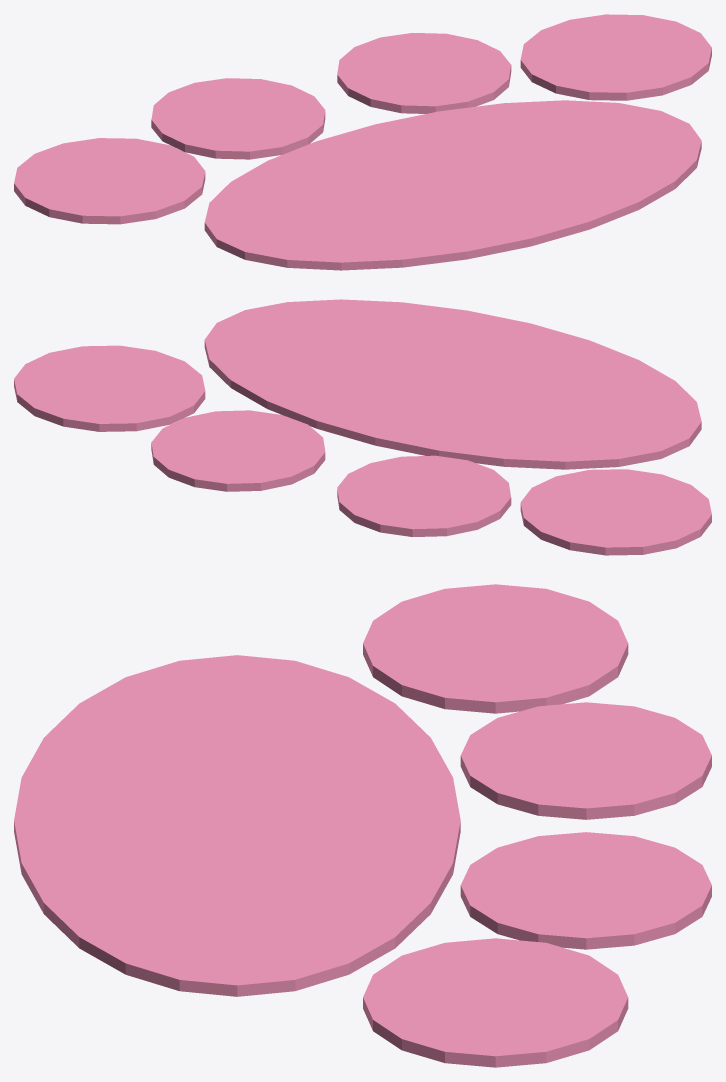
Rendered from rug_paw.glb.
3 views of the same model, one above another, from view 1: azimuth 30°, elevation 25°; view 2: azimuth 150°, elevation 25°; view 3: azimuth 270°, elevation 25° (orthographic). The views are drawn at different scales.
Visible parts, largest first — view 1: Body; view 2: Body; view 3: Body.
Part boxes in pixels (x1,y1,x2,y2): Body: (14, 14, 711, 270); Body: (14, 299, 711, 555); Body: (14, 584, 711, 1067).
Size of the model in its own units: 1.6 by 0.018 by 1.
1 material, 1 textured.
